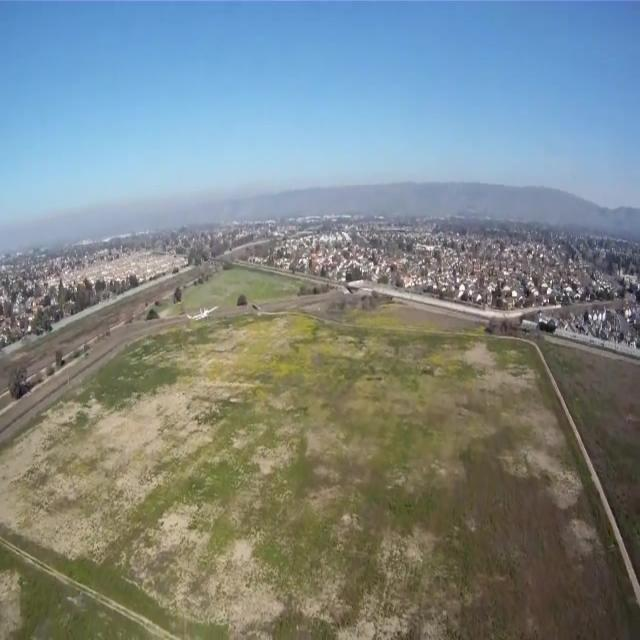iha: (179, 303, 213, 324)
